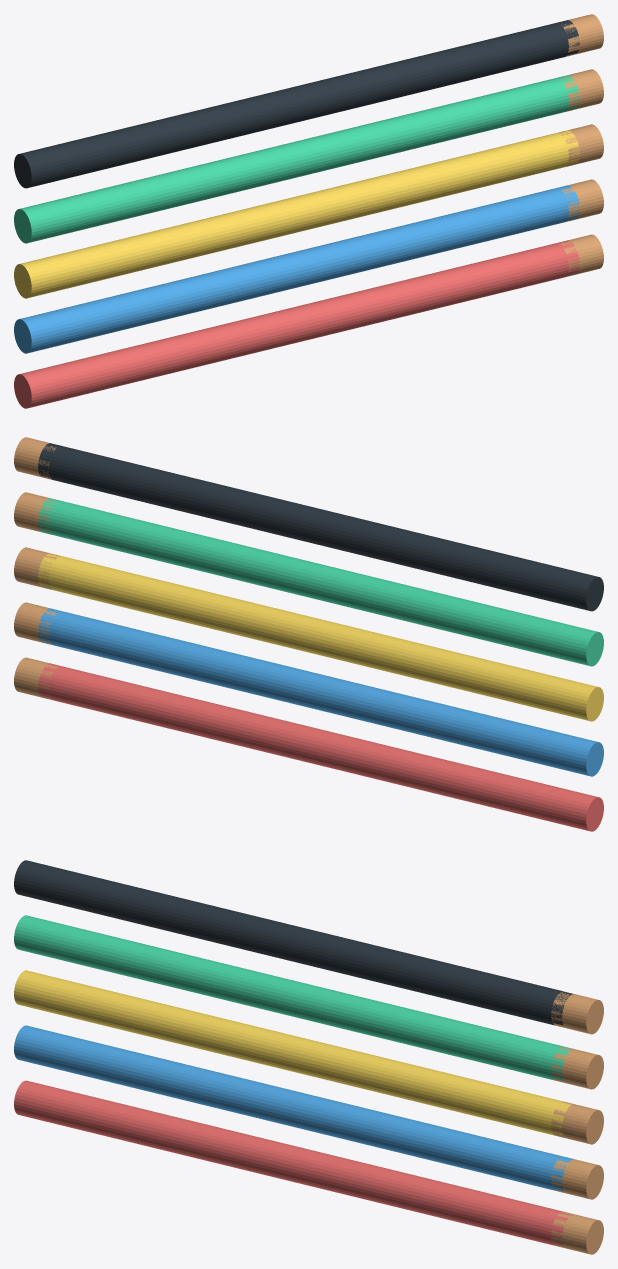
The model's file is wire_bundle.glb.
The picture shows the model from 3 angles, top to bottom: view 1: azimuth 30°, elevation 25°; view 2: azimuth 150°, elevation 25°; view 3: azimuth 330°, elevation 25°; orthographic projection.
Visible parts, largest first — view 1: wire_bundle_0, wire_bundle_2, wire_bundle_4, wire_bundle_6, wire_bundle_8, wire_bundle_7, wire_bundle_5, wire_bundle_1, wire_bundle_3, wire_bundle_9; view 2: wire_bundle_6, wire_bundle_8, wire_bundle_2, wire_bundle_0, wire_bundle_4, wire_bundle_3, wire_bundle_7, wire_bundle_5, wire_bundle_1, wire_bundle_9; view 3: wire_bundle_8, wire_bundle_6, wire_bundle_2, wire_bundle_4, wire_bundle_0, wire_bundle_9, wire_bundle_1, wire_bundle_7, wire_bundle_5, wire_bundle_3.
Part boxes in pixels (<box>): wire_bundle_0: <box>14,240,579,408</box>; wire_bundle_2: <box>14,185,579,353</box>; wire_bundle_4: <box>14,130,579,298</box>; wire_bundle_6: <box>14,75,579,243</box>; wire_bundle_8: <box>14,20,579,188</box>; wire_bundle_7: <box>561,69,603,111</box>; wire_bundle_5: <box>558,124,603,166</box>; wire_bundle_1: <box>560,234,603,276</box>; wire_bundle_3: <box>561,179,603,221</box>; wire_bundle_9: <box>561,14,603,56</box>; wire_bundle_6: <box>38,498,603,666</box>; wire_bundle_8: <box>38,443,603,611</box>; wire_bundle_2: <box>38,608,603,776</box>; wire_bundle_0: <box>38,663,603,831</box>; wire_bundle_4: <box>38,553,603,721</box>; wire_bundle_3: <box>14,602,56,644</box>; wire_bundle_7: <box>14,492,57,534</box>; wire_bundle_5: <box>14,547,59,589</box>; wire_bundle_1: <box>14,657,58,699</box>; wire_bundle_9: <box>14,437,56,479</box>; wire_bundle_8: <box>14,860,572,1025</box>; wire_bundle_6: <box>14,915,573,1080</box>; wire_bundle_2: <box>14,1025,573,1191</box>; wire_bundle_4: <box>14,970,571,1135</box>; wire_bundle_0: <box>14,1080,572,1245</box>; wire_bundle_9: <box>551,991,603,1034</box>; wire_bundle_1: <box>551,1211,603,1254</box>; wire_bundle_7: <box>551,1046,603,1089</box>; wire_bundle_5: <box>551,1101,603,1144</box>; wire_bundle_3: <box>551,1159,603,1199</box>.
Size of the model in its own units: 1.31 by 0.55 by 0.07.
